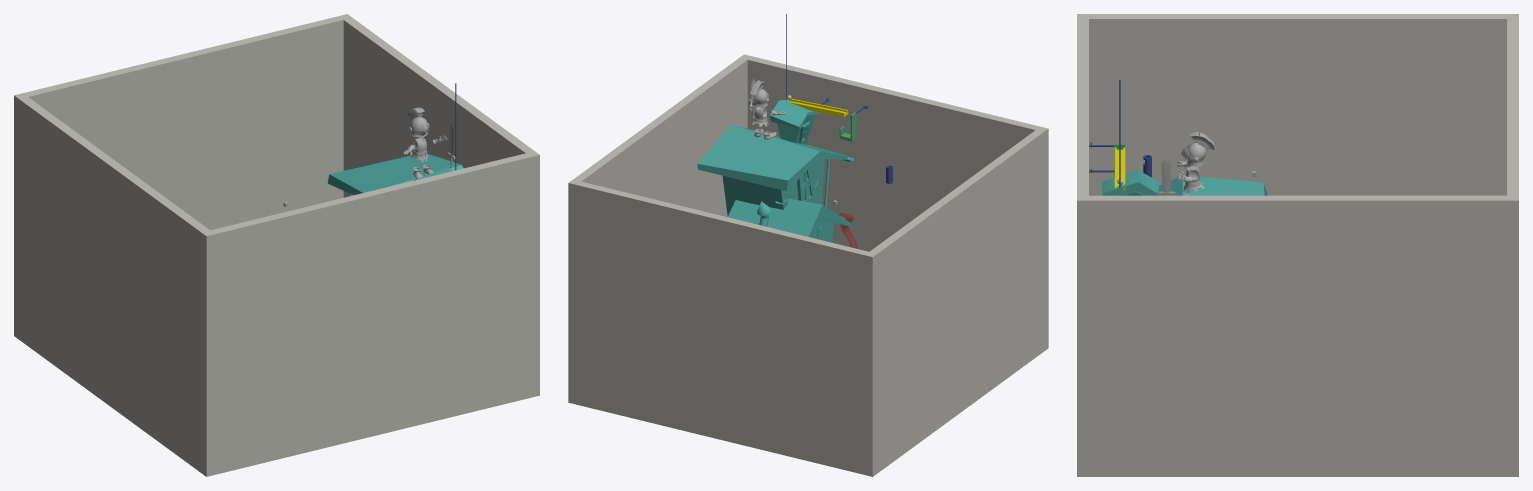
The model's file is AssetsForUnity.fbx.
3 views of the same model, side by side, from view 1: azimuth 30°, elevation 25°; view 2: azimuth 150°, elevation 25°; view 3: azimuth 270°, elevation 25° (orthographic). The views are drawn at different scales.
Parts seen in each view (by area): view 1: pCube17, LowPoly_House1_6:pCube15; view 2: pCube17, LowPoly_House1_6:pCube15, LowPoly_House1_6:pCube14, LowPoly_House1_6:pCube23; view 3: pCube17, LowPoly_House1_6:pCube15, LowPoly_House1_6:pCube23.
Part boxes in pixels (bbox=[...]): pCube17: bbox=[14, 14, 539, 476]; LowPoly_House1_6:pCube15: bbox=[327, 153, 463, 195]; pCube17: bbox=[568, 54, 1048, 476]; LowPoly_House1_6:pCube15: bbox=[697, 125, 848, 216]; LowPoly_House1_6:pCube14: bbox=[728, 198, 850, 242]; LowPoly_House1_6:pCube23: bbox=[769, 99, 821, 144]; pCube17: bbox=[1077, 14, 1518, 476]; LowPoly_House1_6:pCube15: bbox=[1158, 175, 1267, 195]; LowPoly_House1_6:pCube23: bbox=[1102, 170, 1158, 195].
Bounding box in the file's own units: 101 × 91.53 × 101.
